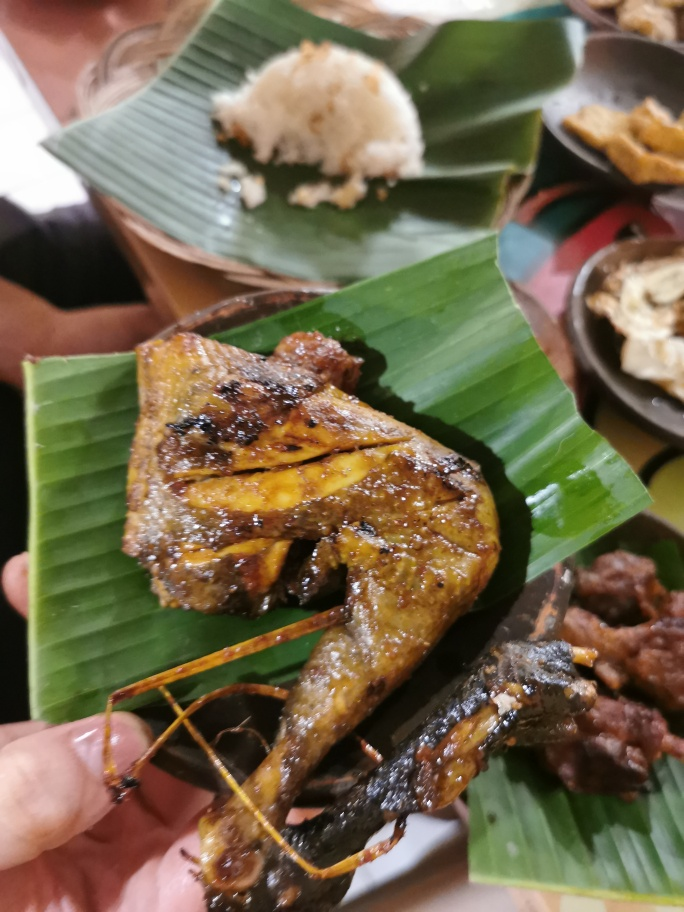ayam bakar: (122, 336, 534, 912)
